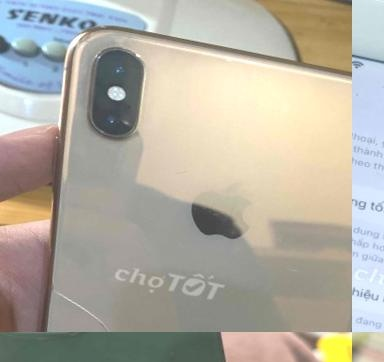physical_damage: (6, 272, 345, 332)
scratch: (250, 219, 324, 294), (203, 48, 289, 97), (352, 63, 384, 106)
